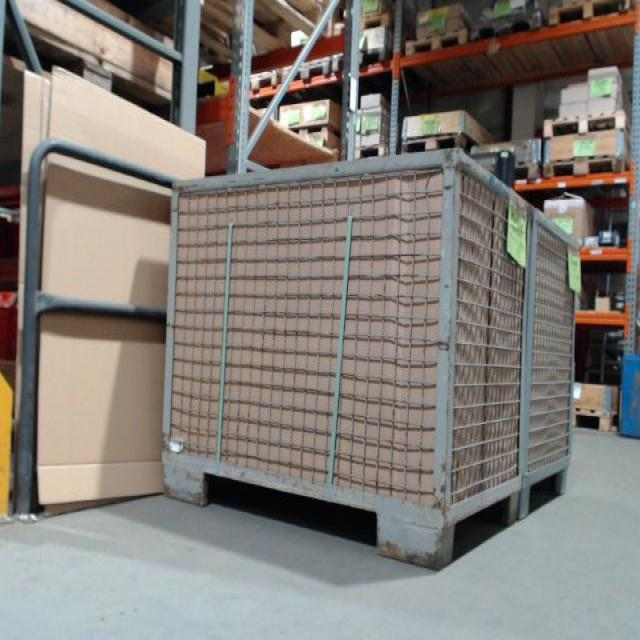pallet: (0, 16, 177, 126), (201, 0, 340, 67), (540, 108, 631, 140), (470, 4, 544, 42), (543, 150, 629, 180), (545, 0, 631, 28), (406, 25, 472, 57), (401, 133, 474, 156), (570, 404, 621, 435), (280, 54, 332, 83), (287, 119, 342, 138), (245, 69, 278, 92), (357, 45, 392, 66), (355, 139, 387, 159), (360, 12, 393, 30)
pallet_truck: (455, 145, 519, 184)
stillage: (160, 140, 580, 572)
